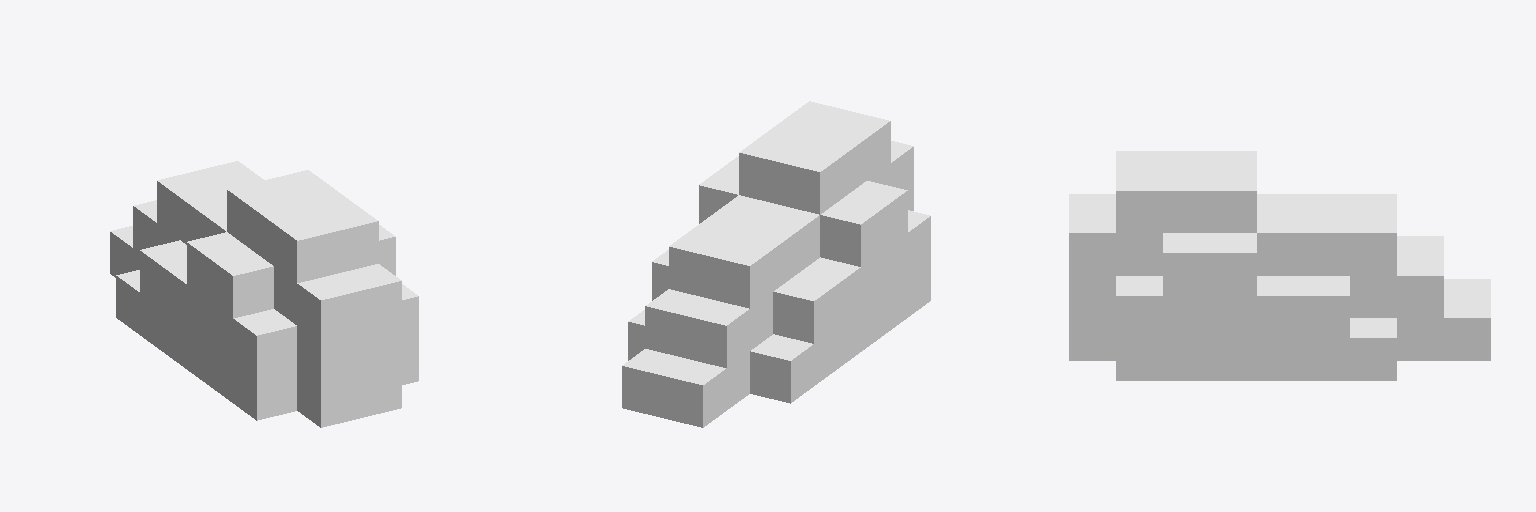
File: DefaultLeg.obj
3 views of the same model, side by side, from view 1: azimuth 30°, elevation 25°; view 2: azimuth 150°, elevation 25°; view 3: azimuth 270°, elevation 25° (orthographic).
Visible parts, largest first — view 1: object 1; view 2: object 1; view 3: object 1.
Boxes of the visible parts, box(x1,y1,x2,y2) form: object 1: box(110, 161, 418, 427); object 1: box(622, 101, 930, 427); object 1: box(1069, 151, 1490, 380).
Bounding box in the file's own units: 0.4 × 0.4 × 0.9.